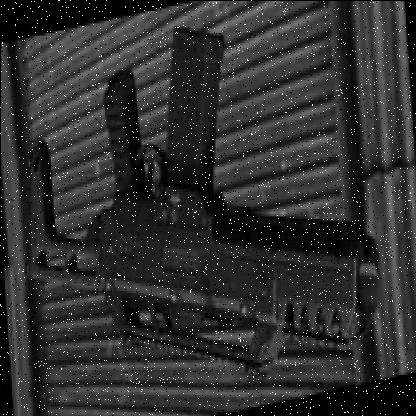rifle: (18, 0, 395, 416)
